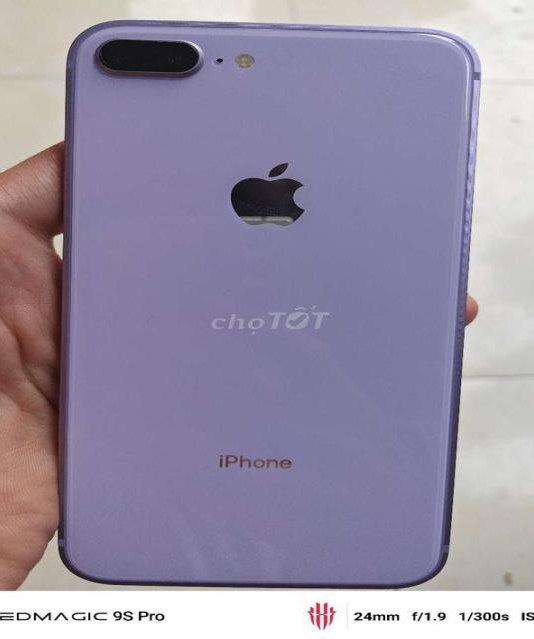scratch: (134, 16, 438, 36)
